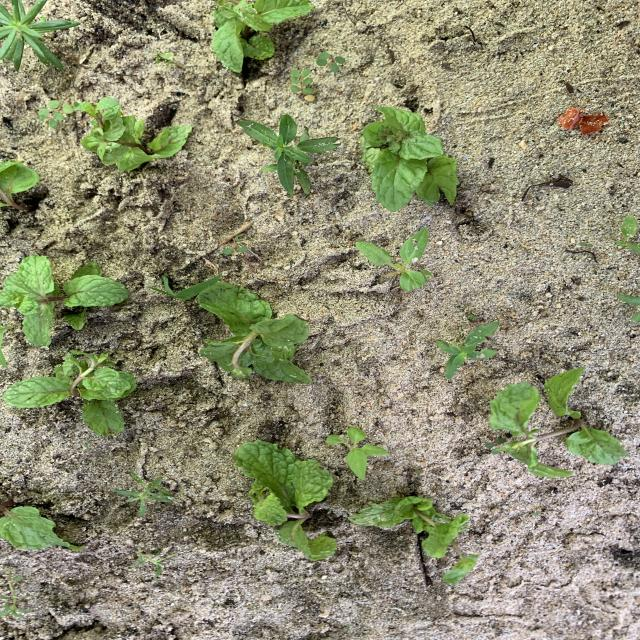crop: (486, 368, 626, 476), (235, 441, 334, 559), (348, 496, 478, 585), (1, 256, 128, 345), (199, 283, 311, 382), (4, 351, 135, 435), (360, 107, 458, 210), (78, 100, 190, 170), (213, 1, 312, 71), (1, 500, 83, 549), (1, 161, 38, 209)
weed: (240, 115, 339, 194), (1, 1, 78, 69), (356, 229, 431, 291), (436, 321, 499, 378), (326, 426, 389, 479), (115, 473, 172, 515), (151, 274, 221, 299), (135, 546, 172, 579), (38, 101, 75, 127), (616, 216, 640, 254), (0, 593, 30, 617), (291, 68, 314, 94), (618, 294, 639, 321), (316, 52, 345, 71), (2, 568, 23, 590), (222, 242, 247, 255), (156, 52, 171, 63), (468, 314, 478, 319)
